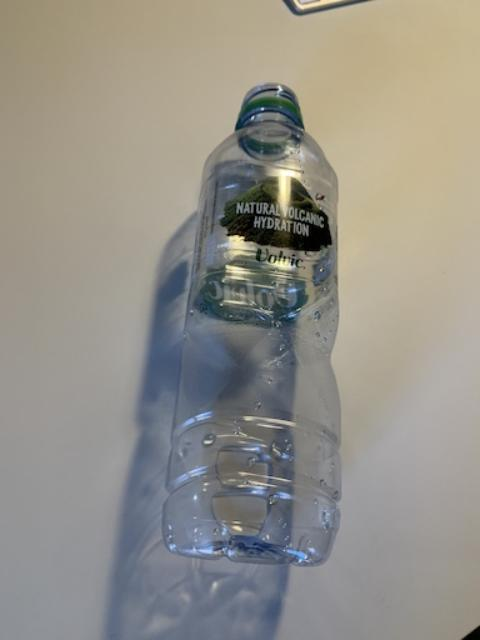plastic: (161, 82, 338, 562)
